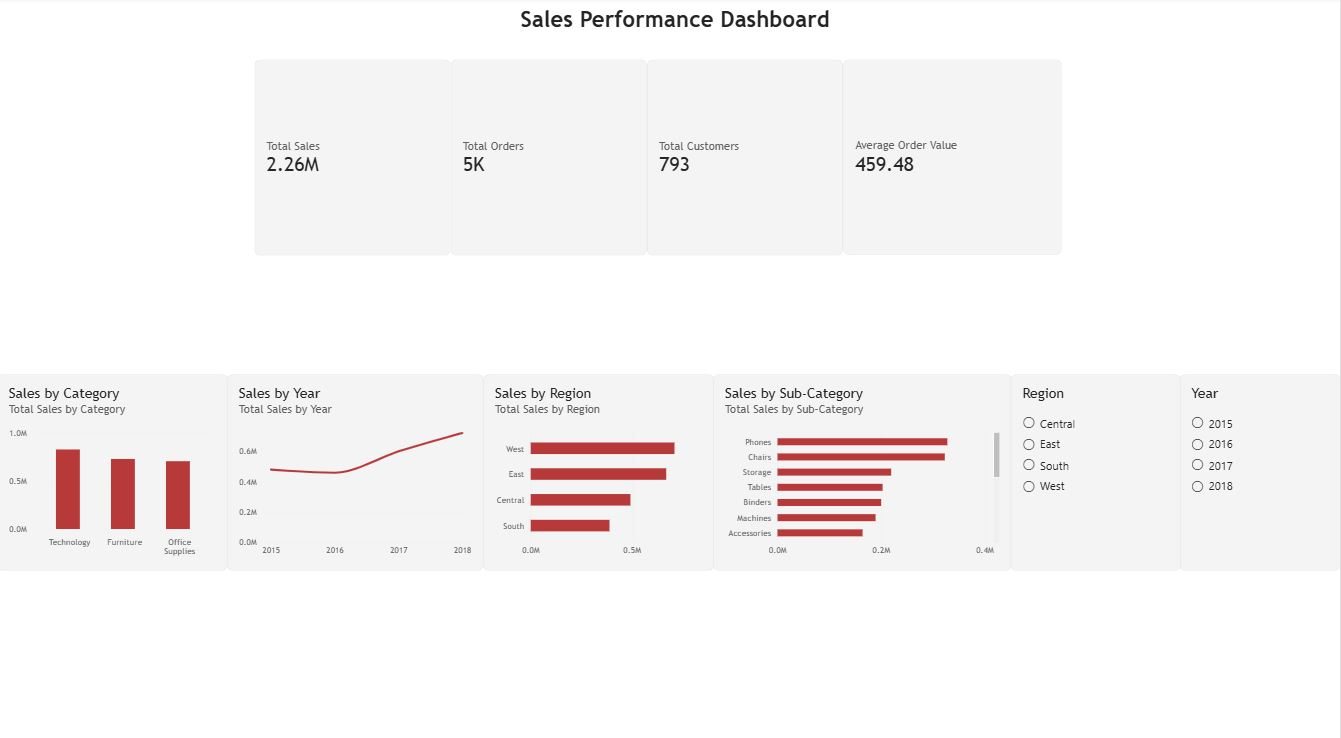

Layout of this report page (visuals, bound fields, positions):
{"tool":"powerbi","page":{"name":"Page 1","canvas":[1920,1080],"ordinal":0},"visuals":[{"type":"cardVisual","fields":{"Data":["train.Total Sales"]},"box":[368.4,88.5,280,280],"z":0},{"type":"cardVisual","fields":{"Data":["train.Total Orders"]},"box":[648.4,88.5,280,280],"z":1000},{"type":"cardVisual","fields":{"Data":["train.Total Customers"]},"box":[928.3,88.5,280,280],"z":2000},{"type":"cardVisual","fields":{"Data":["train.Average Order Value"]},"box":[1208.2,88.5,312.9,279.9],"z":3000},{"type":"clusteredColumnChart","title":"Sales by Category","fields":{"Category":["train.Category"],"Y":["train.Total Sales"]},"box":[0,539.3,329.3,279.9],"z":4000},{"type":"lineChart","title":"Sales by Year","fields":{"Category":["train.Order Date.Variation.Date Hierarchy.Year","train.Order Date.Variation.Date Hierarchy.Quarter","train.Order Date.Variation.Date Hierarchy.Month","train.Order Date.Variation.Date Hierarchy.Day"],"Y":["train.Total Sales"]},"box":[328.5,539.3,366.4,279.9],"z":5000},{"type":"clusteredBarChart","title":"Sales by Region","fields":{"Category":["train.Region"],"Y":["train.Total Sales"]},"box":[694.1,539.3,329.3,279.9],"z":6000},{"type":"clusteredBarChart","title":"Sales by Sub-Category","fields":{"Category":["train.Sub-Category"],"Y":["train.Total Sales"]},"box":[1022.6,539.3,426.1,279.9],"z":7000},{"type":"listSlicer","fields":{"Values":["train.Order Date.Variation.Date Hierarchy.Year"]},"box":[1689.5,539.3,230.5,279.9],"z":8000},{"type":"listSlicer","fields":{"Values":["train.Region"]},"box":[1447.8,539.3,242.9,279.9],"z":9000},{"type":"textbox","box":[367.9,12.5,1201.8,76.8],"z":10000}]}

Visuals, with their boxes in screenshot pixels (x1, y1, x2, y2), scaled from the page's 1920x1080 canvas onto the 1341x738 screenshot:
cardVisual - train.Total Sales: [left=257, top=60, right=453, bottom=252]
cardVisual - train.Total Orders: [left=453, top=60, right=648, bottom=252]
cardVisual - train.Total Customers: [left=648, top=60, right=844, bottom=252]
cardVisual - train.Average Order Value: [left=844, top=60, right=1062, bottom=252]
"Sales by Category" clusteredColumnChart: [left=0, top=369, right=230, bottom=560]
"Sales by Year" lineChart: [left=229, top=369, right=485, bottom=560]
"Sales by Region" clusteredBarChart: [left=485, top=369, right=715, bottom=560]
"Sales by Sub-Category" clusteredBarChart: [left=714, top=369, right=1012, bottom=560]
listSlicer - train.Order Date.Variation.Date Hierarchy.Year: [left=1180, top=369, right=1340, bottom=560]
listSlicer - train.Region: [left=1011, top=369, right=1181, bottom=560]
textbox: [left=257, top=9, right=1096, bottom=61]
